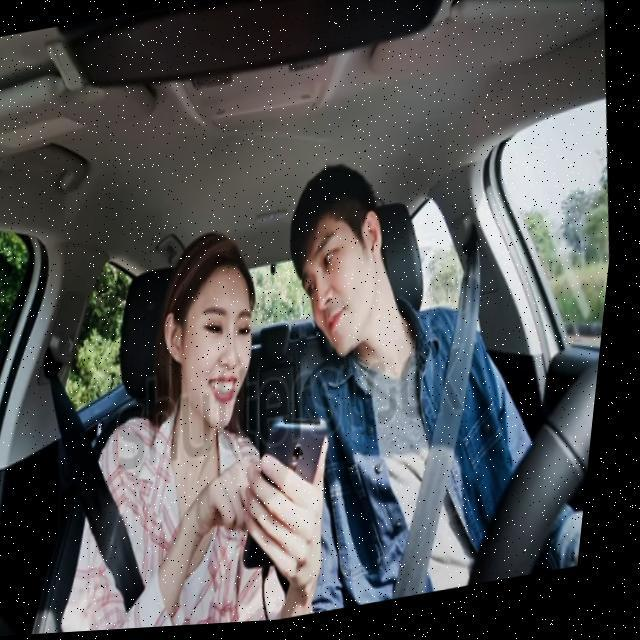PhoneCall: (235, 409, 352, 572)
